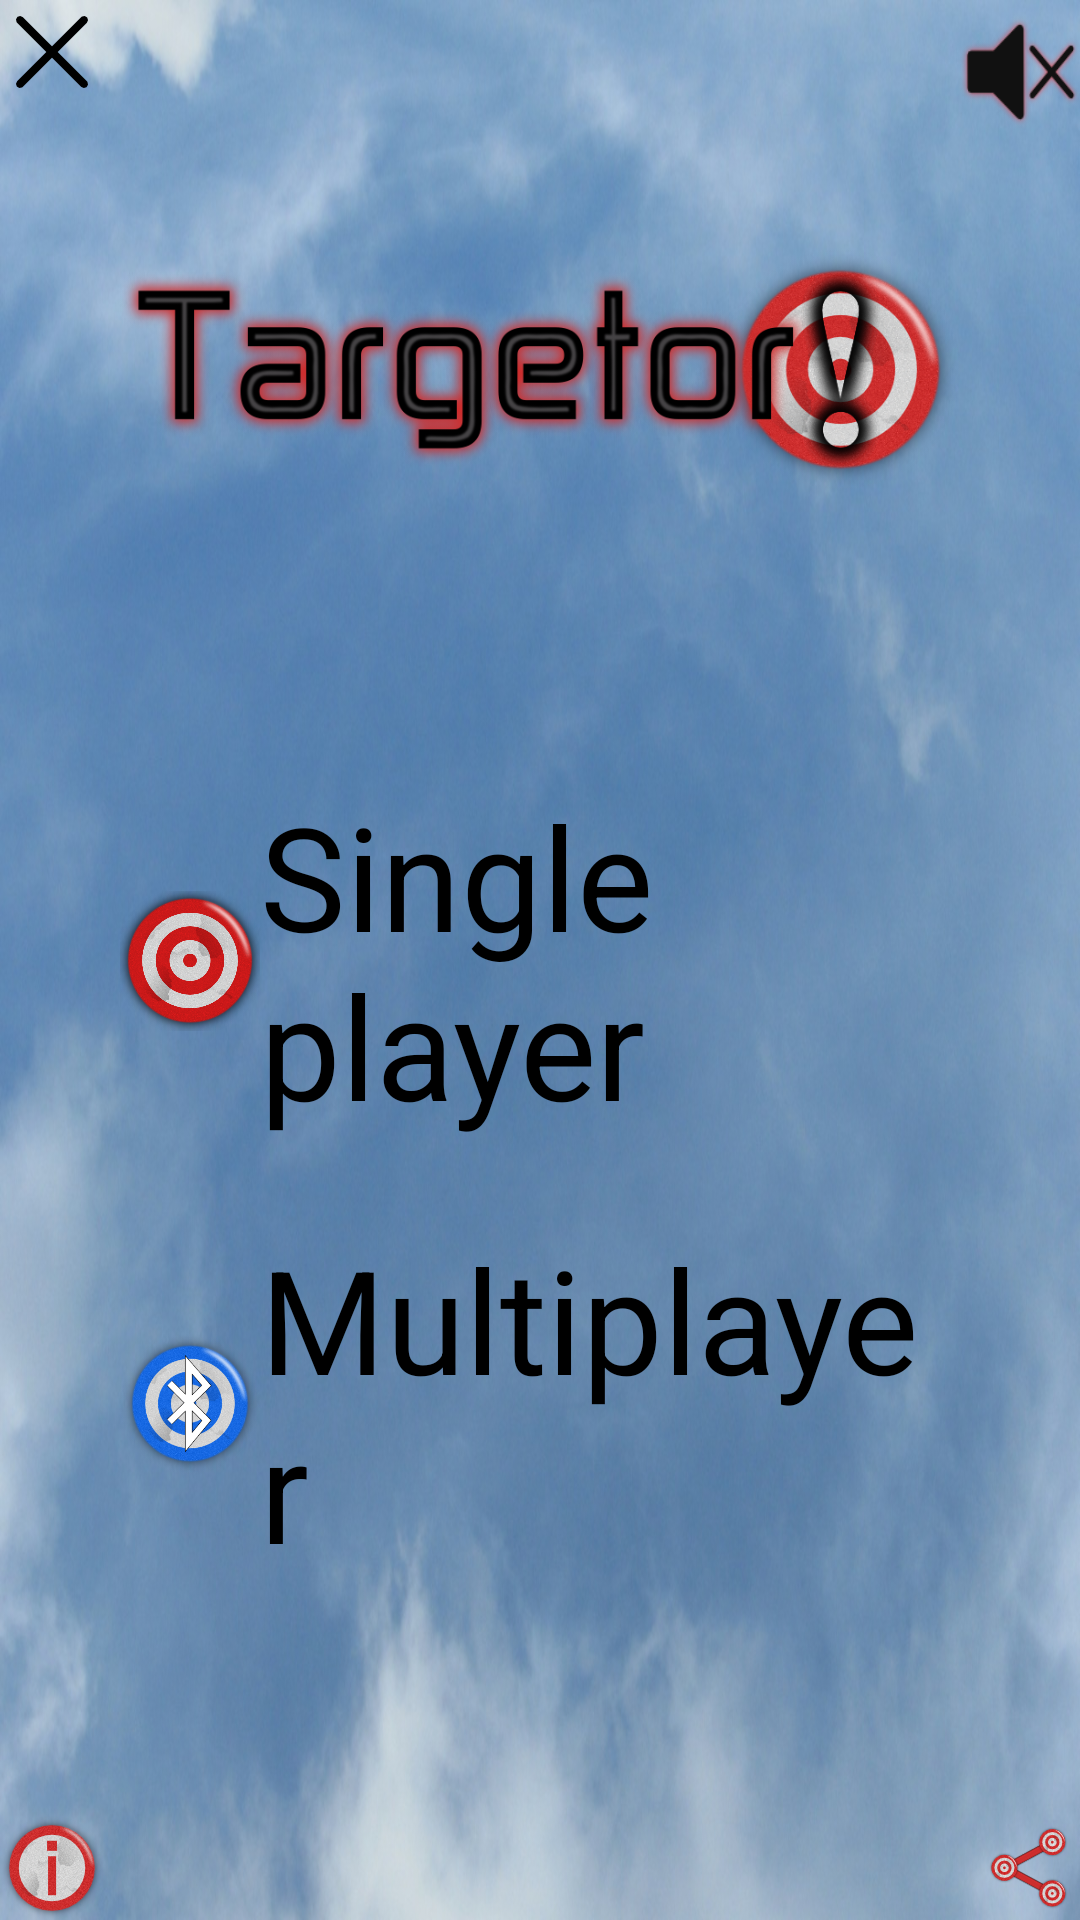

Where to tap for icons on this 1080w x 1920h app screen, as [x,y]:
info: [48,1871]
quit: [52,52]
share: [1035,1874]
